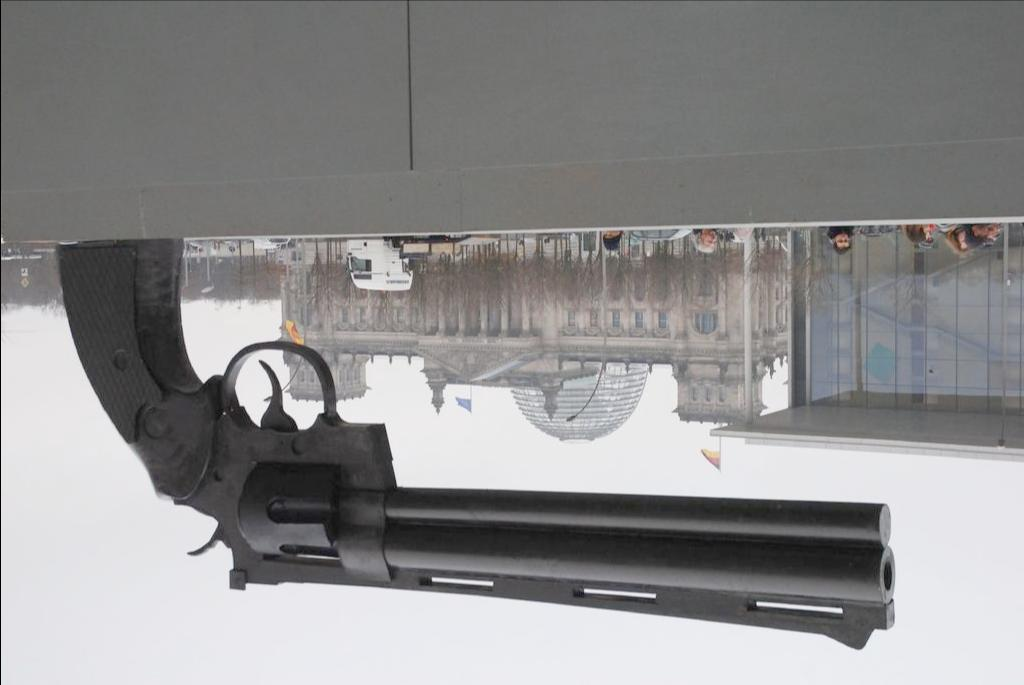gun: (54, 239, 894, 650)
